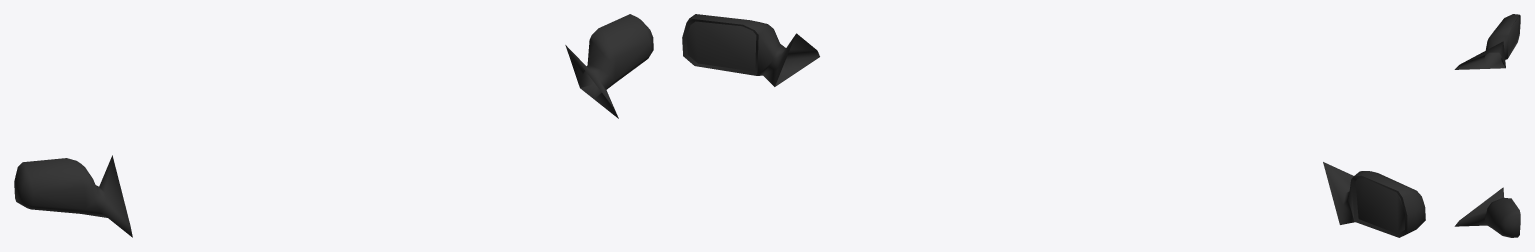
File: mirrors.obj
3 views of the same model, side by side, from view 1: azimuth 30°, elevation 25°; view 2: azimuth 150°, elevation 25°; view 3: azimuth 270°, elevation 25° (orthographic). The views are drawn at different scales.
Visible parts, largest first — view 1: Mirrors1; view 2: Mirrors1; view 3: Mirrors1.
Boxes of the visible parts, x1,y1,x2,y2 form: Mirrors1: (14, 14, 653, 237); Mirrors1: (682, 14, 1425, 237); Mirrors1: (1454, 14, 1520, 237).
Size of the model in its own units: 7.55 by 0.6196 by 1.04.
1 material, 1 textured.
